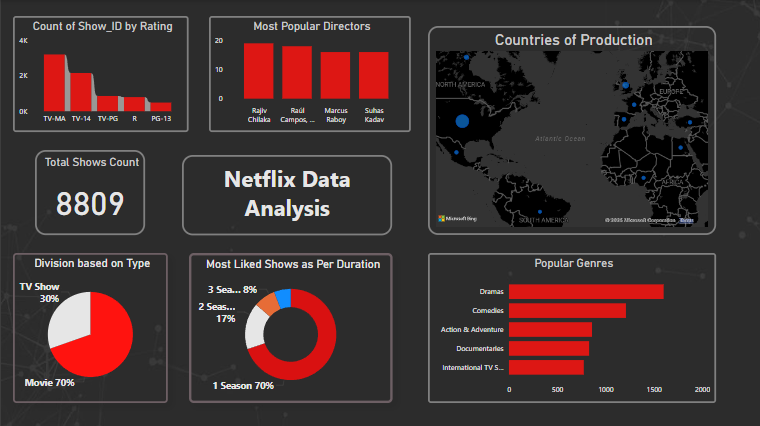

What the dashboard file says about the page in this screenshot:
{"tool":"powerbi","page":{"name":"Page 1","canvas":[1280,720],"ordinal":0},"visuals":[{"type":"columnChart","title":"Count of Show_ID by Rating","fields":{"Category":["netflix_titles.rating"],"Y":["netflix_titles.show_id"]},"box":[20,26.7,295,195],"z":0},{"type":"pieChart","title":"Division based on Type","fields":{"Category":["Type_of_Show.type"],"Y":["Type_of_Show.Count"]},"box":[20,425,260,251.7],"z":1000},{"type":"clusteredColumnChart","title":"Most Popular Directors","fields":{"Category":["Director.director"],"Y":["Director.Count"]},"box":[349.4,26.9,339.3,194.9],"z":2000},{"type":"donutChart","title":"Most Liked Shows as Per Duration","fields":{"Category":["netflix_titles.duration"],"Y":["netflix_titles.show_id"]},"box":[315,425,341.7,251.7],"z":4000},{"type":"barChart","title":"Popular Genres","fields":{"Category":["Genre.Genre.1"],"Y":["Genre.Count"]},"box":[717.3,425,483.8,252],"z":5000},{"type":"card","title":"Total Shows Count","fields":{"Values":["Type_of_Show.Count"]},"box":[56.7,251.7,185,143.3],"z":6000},{"type":"textbox","box":[303.3,260,353.3,135],"z":7000},{"type":"map","title":"Countries of Production","fields":{"Category":["Country_Group.country"],"Size":["Country_Group.Density"]},"box":[717.3,43.7,483.8,351.1],"z":7001}]}

Visuals, with their boxes in screenshot pixels (x1, y1, x2, y2), scaled from the page's 1280x720 canvas onto the 760x426 screenshot:
"Count of Show_ID by Rating" columnChart: x1=12 y1=16 x2=187 y2=131
"Division based on Type" pieChart: x1=12 y1=251 x2=166 y2=400
"Most Popular Directors" clusteredColumnChart: x1=207 y1=16 x2=409 y2=131
"Most Liked Shows as Per Duration" donutChart: x1=187 y1=251 x2=390 y2=400
"Popular Genres" barChart: x1=426 y1=251 x2=713 y2=401
"Total Shows Count" card: x1=34 y1=149 x2=144 y2=234
textbox: x1=180 y1=154 x2=390 y2=234
"Countries of Production" map: x1=426 y1=26 x2=713 y2=234
